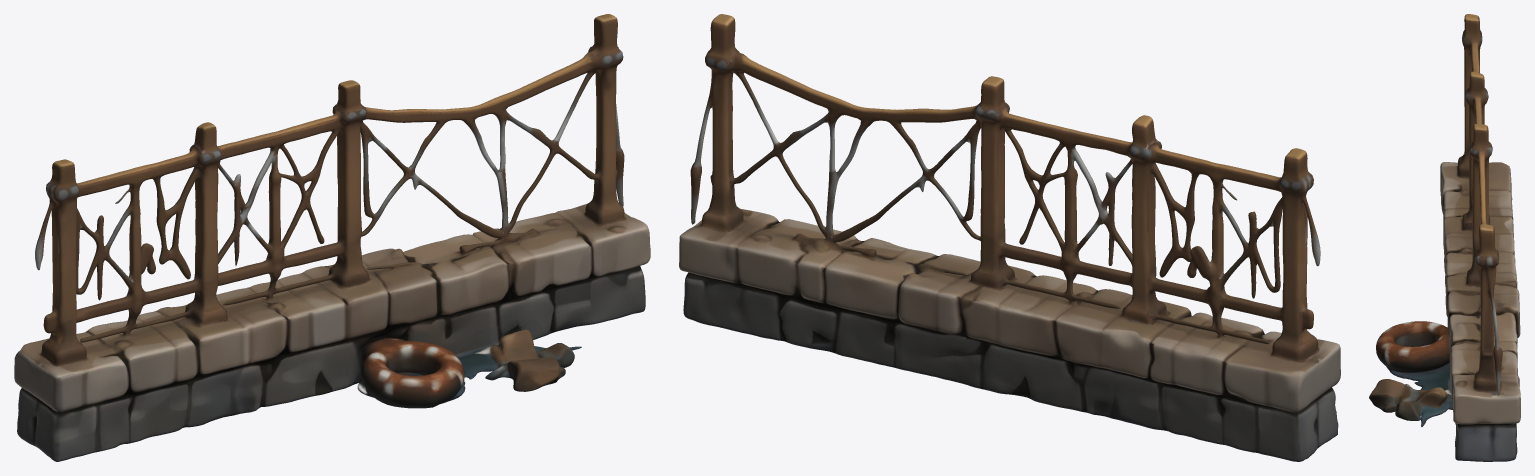
File: SM_Environment_StoneDock_01.fbx
3 renders of one model, left to right at view 1: azimuth 30°, elevation 25°; view 2: azimuth 150°, elevation 25°; view 3: azimuth 270°, elevation 25°, orthographic. The views are drawn at different scales.
Visible parts, largest first — view 1: SM_Environment_StoneDock_01; view 2: SM_Environment_StoneDock_01; view 3: SM_Environment_StoneDock_01.
Boxes of the visible parts, x1,y1,x2,y2 form: SM_Environment_StoneDock_01: (14, 14, 650, 461); SM_Environment_StoneDock_01: (679, 14, 1340, 461); SM_Environment_StoneDock_01: (1369, 14, 1520, 461).
Size of the model in its own units: 0.9995 by 0.4544 by 0.2749.
Materials: 1 (1 with a texture image).
